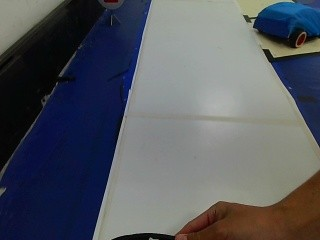car: (250, 1, 318, 47)
